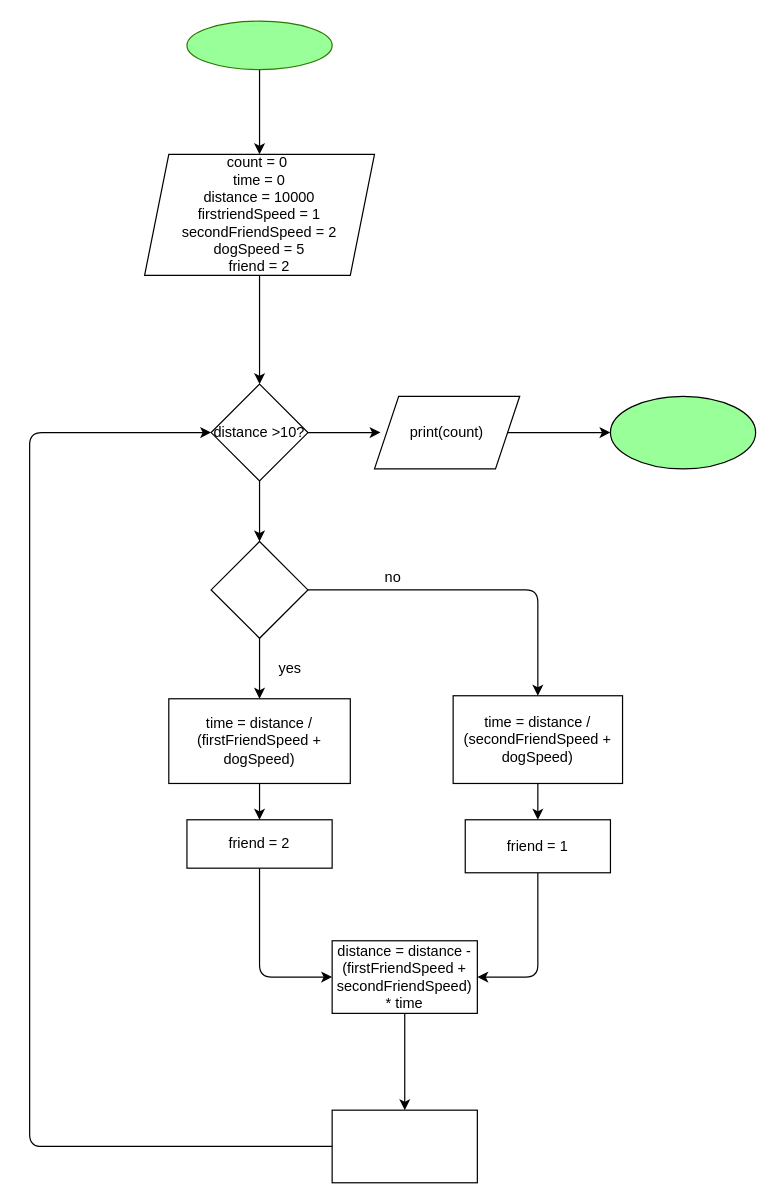
Image size: 777x1204. Some labels were removed from this diagram. Here are the shapes that lost their labels. From the top down, the box of each, then its label:
(186, 20, 332, 70): start
(609, 395, 756, 469): finish
(210, 540, 308, 638): friend == 1?
(331, 1109, 477, 1183): count = count +1
